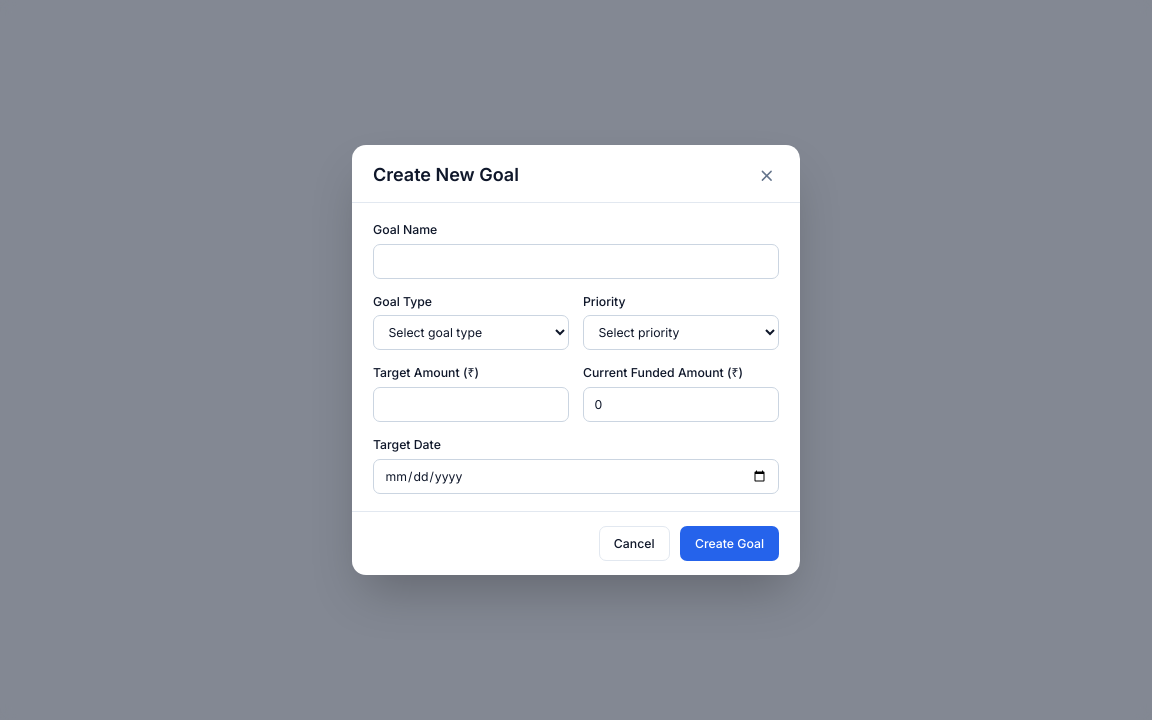
Test case: GoalFormModal — Create mode › shows validation error when goal_name is empty on submit
Click the button "Create Goal".
click(730, 544)  # box 680,526 -> 779,561
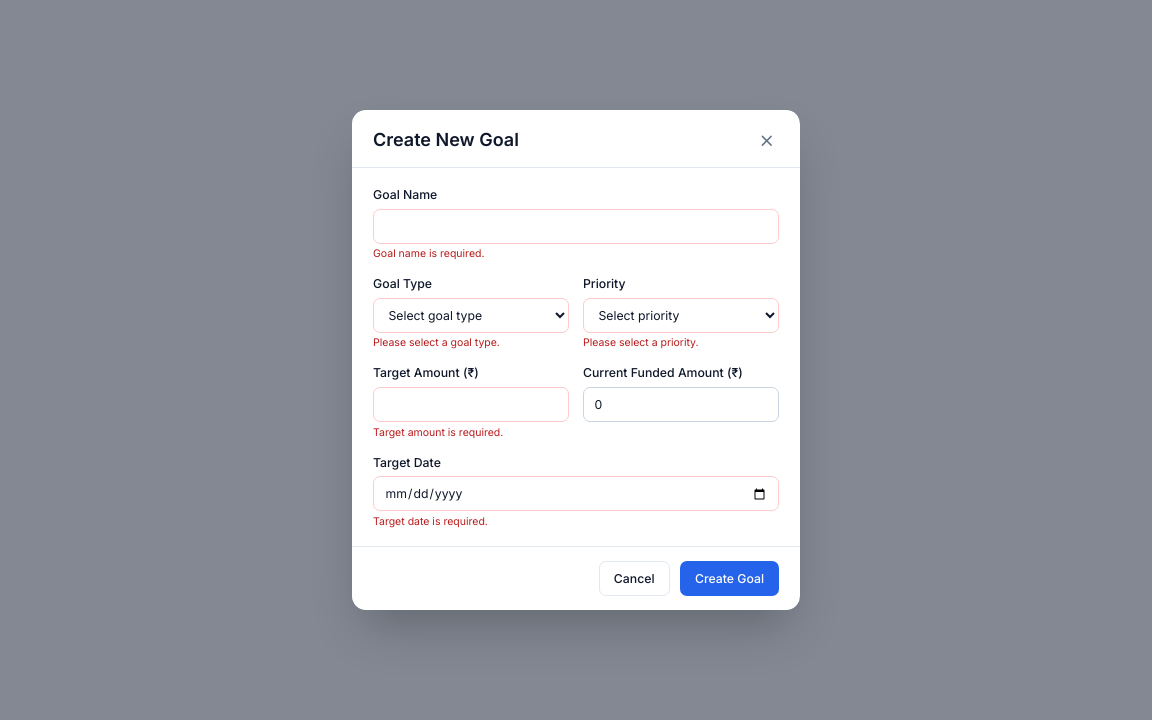
Expected: the text "Goal name is required." is shown, 373,247 -> 484,260
